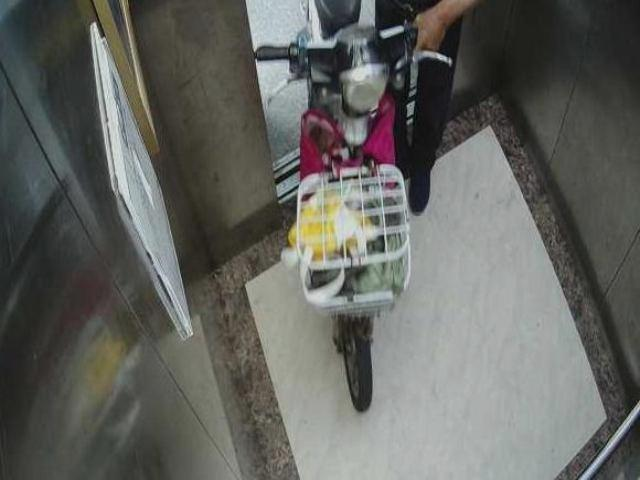emotor: (250, 1, 426, 420)
